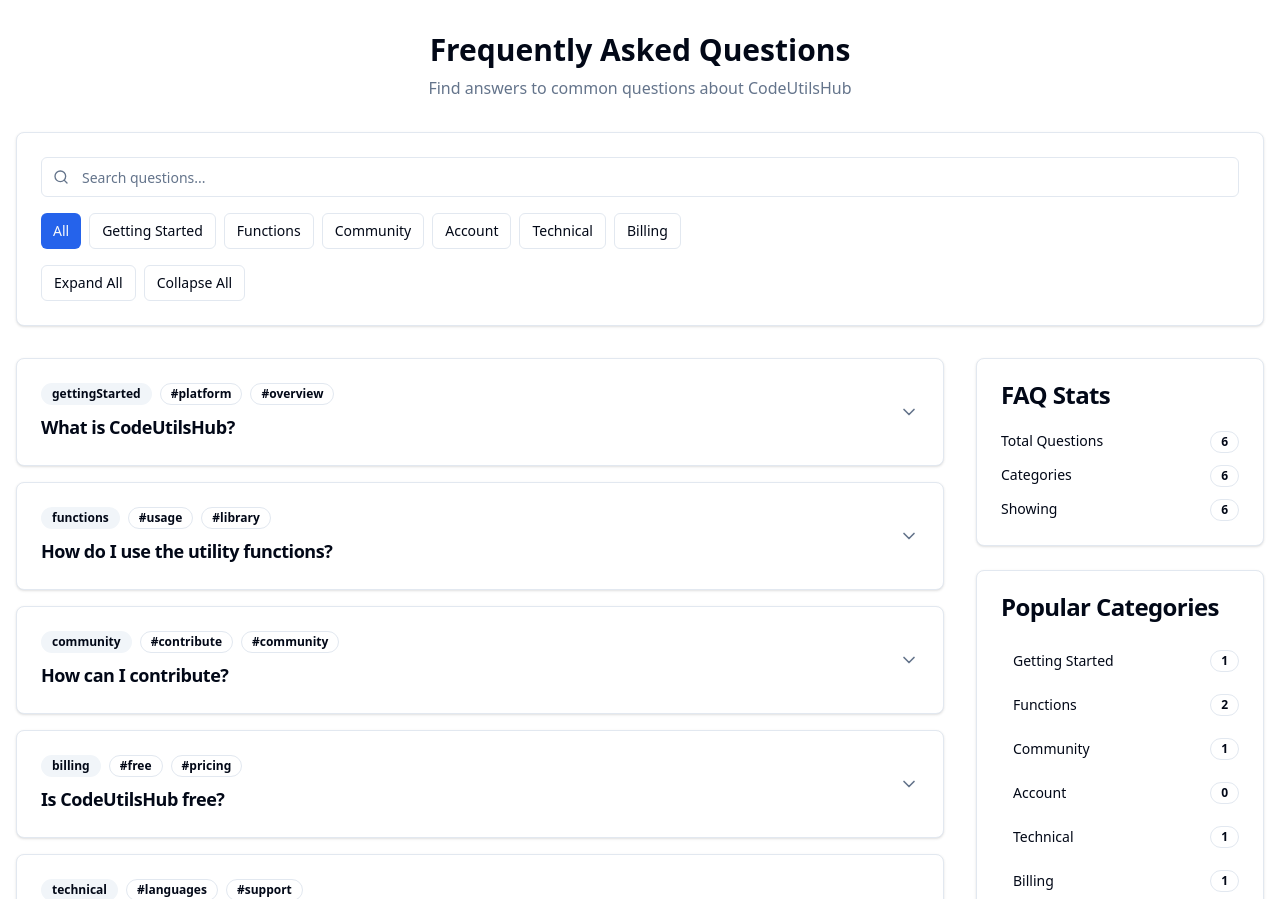
it: FAQPage › expands FAQ item when clicked
This screenshot has width=1280, height=899.
What coordinates should you click on to do the following:
click the heading "What is CodeUtilsHub?"
I would click on:
 (138, 427)
Its box is x1=41 y1=415 x2=235 y2=439.
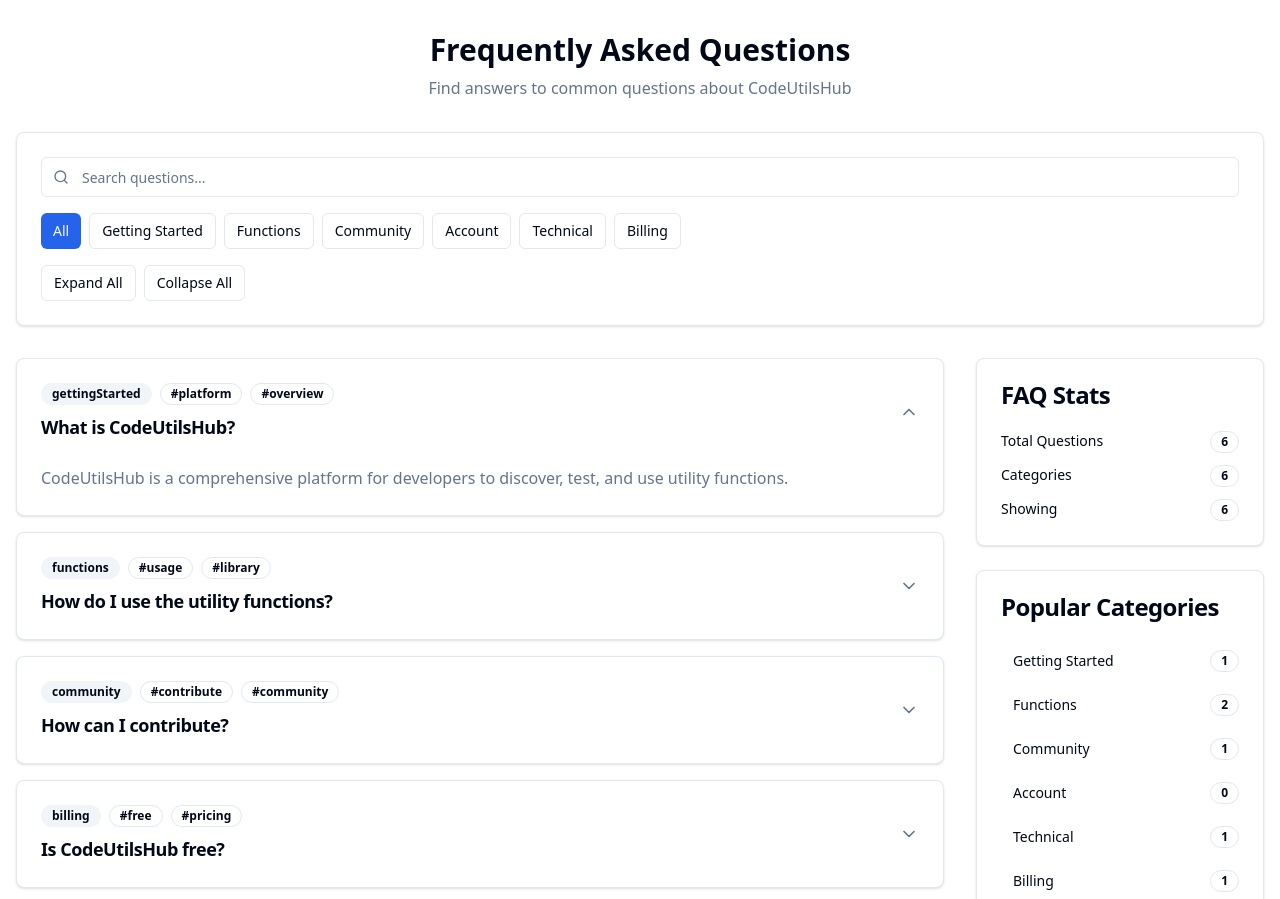
Now the text "CodeUtilsHub is a comprehensive platform for developers to discover, test, and use utility functions." is shown, box x1=41 y1=467 x2=788 y2=489
